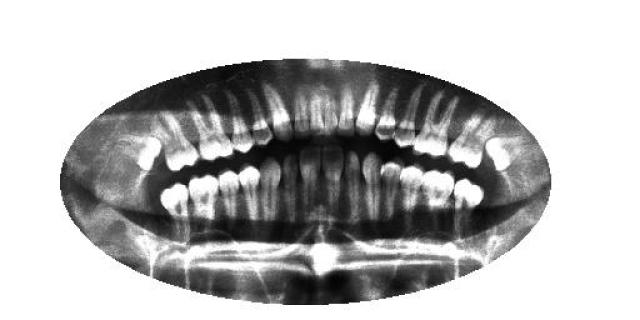Restorations: (120, 130, 161, 174), (485, 132, 527, 172)
